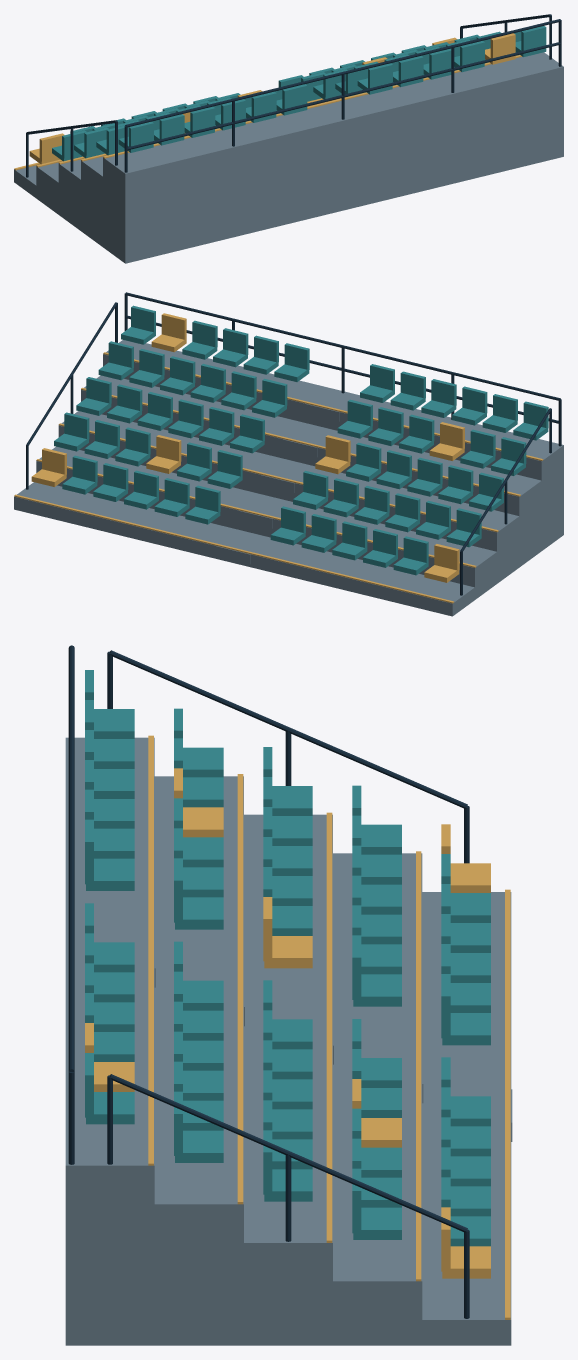
File: stand-10m.glb
The picture shows the model from 3 angles, top to bottom: view 1: azimuth 30°, elevation 25°; view 2: azimuth 150°, elevation 25°; view 3: azimuth 270°, elevation 25°; orthographic projection. The views are drawn at different scales.
Visible parts, largest first — view 1: stand-10m; view 2: stand-10m; view 3: stand-10m.
Part boxes in pixels (bbox=[...]): stand-10m: bbox=[14, 14, 563, 263]; stand-10m: bbox=[14, 292, 563, 616]; stand-10m: bbox=[65, 645, 512, 1345].
Bounding box in the file's own units: 10 × 2.99 × 4.41.
